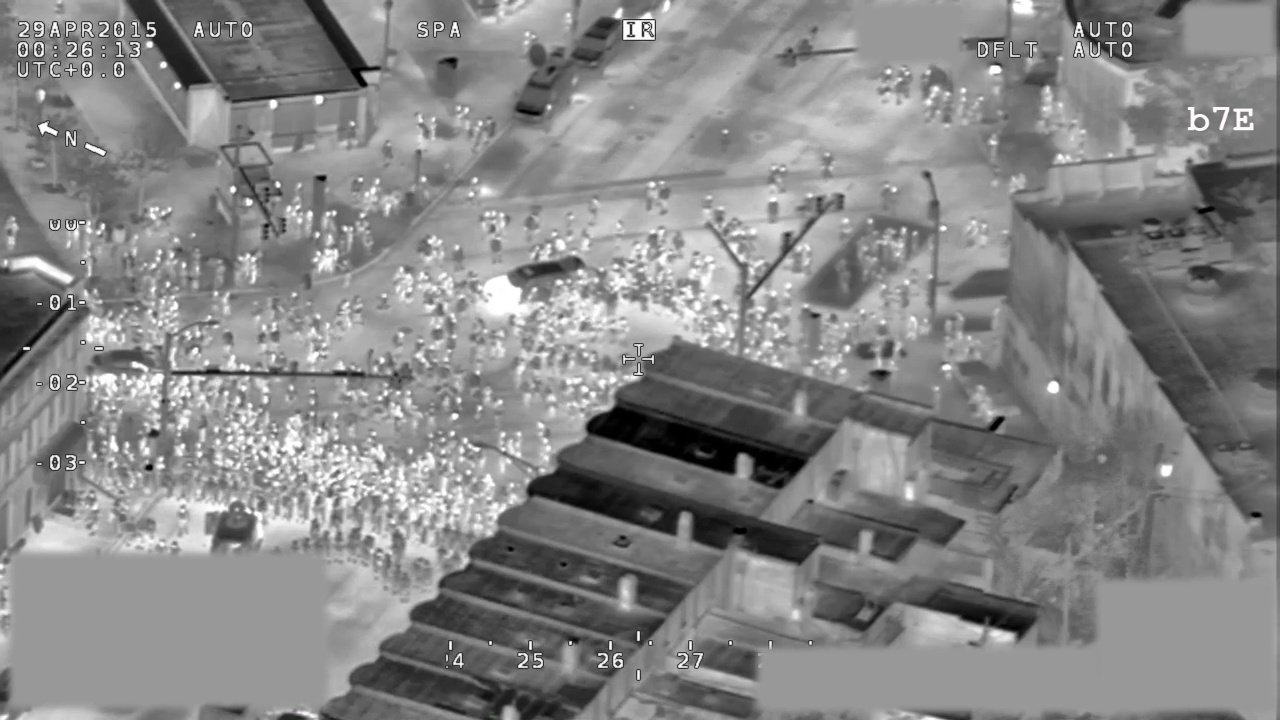vehicle: (480, 251, 593, 319), (511, 35, 578, 129), (204, 495, 263, 557), (84, 345, 178, 380), (571, 15, 629, 71)
